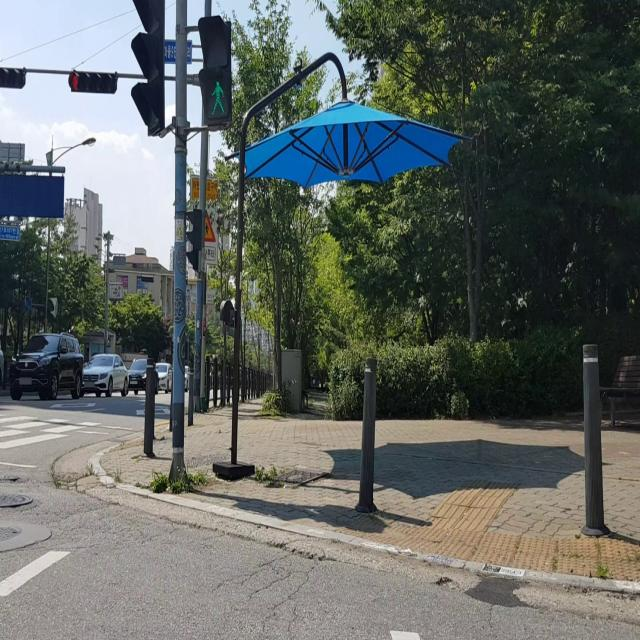초록불: (196, 12, 234, 133)
횡단보도: (0, 412, 113, 454)
